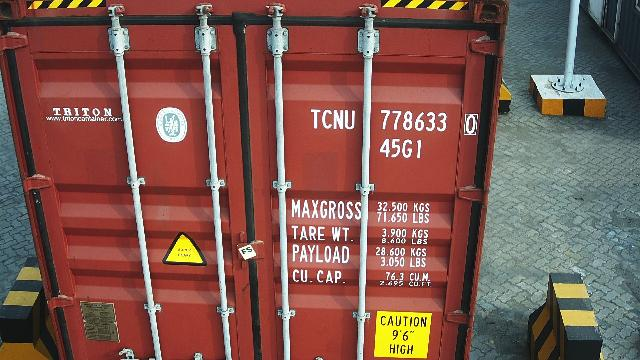0: (464, 113, 478, 135)
3: (437, 112, 448, 132), (426, 112, 436, 132)
6: (415, 111, 425, 131)
7: (392, 109, 402, 130), (380, 110, 390, 130)
8: (403, 110, 413, 132)
C: (322, 109, 332, 129)
N: (334, 109, 344, 129)
T: (310, 108, 320, 130)
U: (344, 110, 356, 130)
